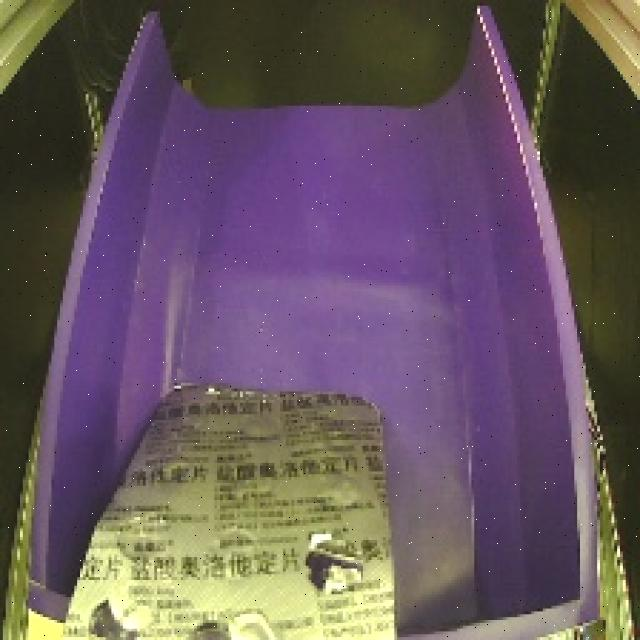med_plate: (48, 374, 423, 640)
